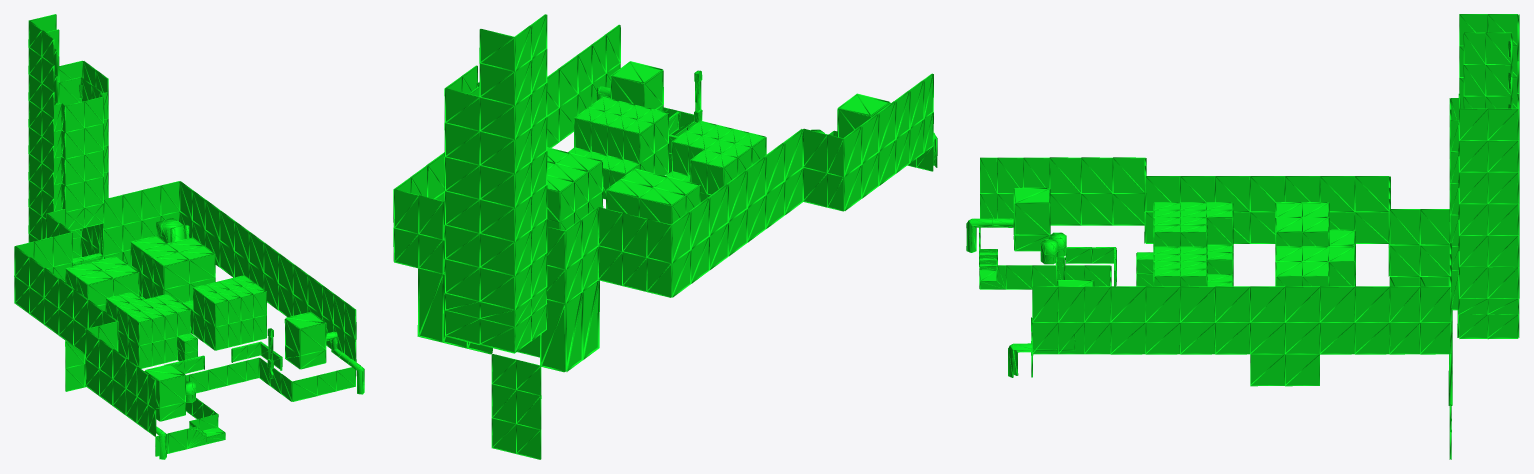
Rendered from level1miimap.fbx.
The picture shows the model from 3 angles, left to right: view 1: azimuth 30°, elevation 25°; view 2: azimuth 150°, elevation 25°; view 3: azimuth 270°, elevation 25°; orthographic projection. The views are drawn at different scales.
Visible parts, largest first — view 1: mesh313.004; view 2: mesh313.004; view 3: mesh313.004.
Boxes of the visible parts, x1=… form: mesh313.004: x1=14, y1=14, x2=364, y2=459; mesh313.004: x1=393, y1=14, x2=937, y2=459; mesh313.004: x1=966, y1=14, x2=1519, y2=459.
Size of the model in its own units: 17646 by 26500 by 31718.
